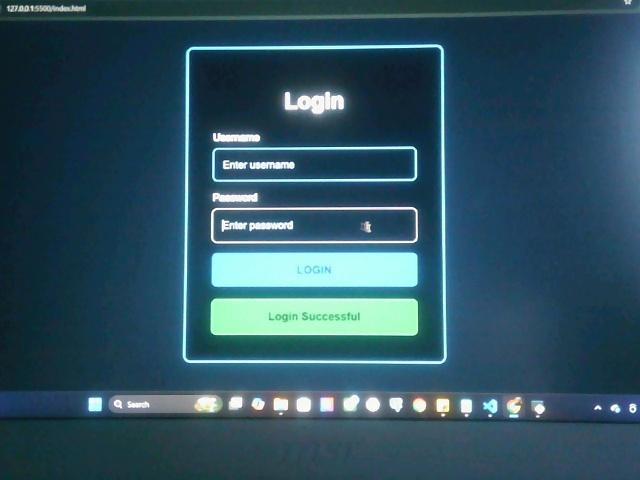login_button: (210, 251, 419, 289)
login_form: (185, 46, 447, 365)
password_input: (210, 207, 420, 246)
success_alert: (210, 298, 420, 336)
title_text: (282, 87, 348, 118)
username_input: (212, 146, 418, 183)
